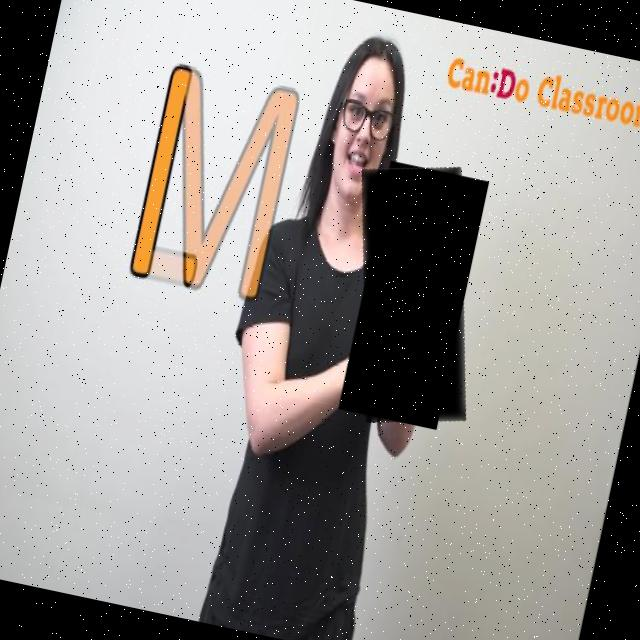L: (325, 155, 504, 438)
